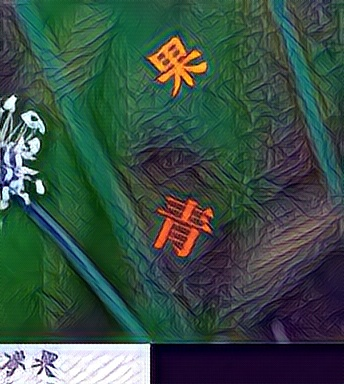B9FB: (146, 33, 211, 98)
C7E0: (149, 193, 214, 258)
